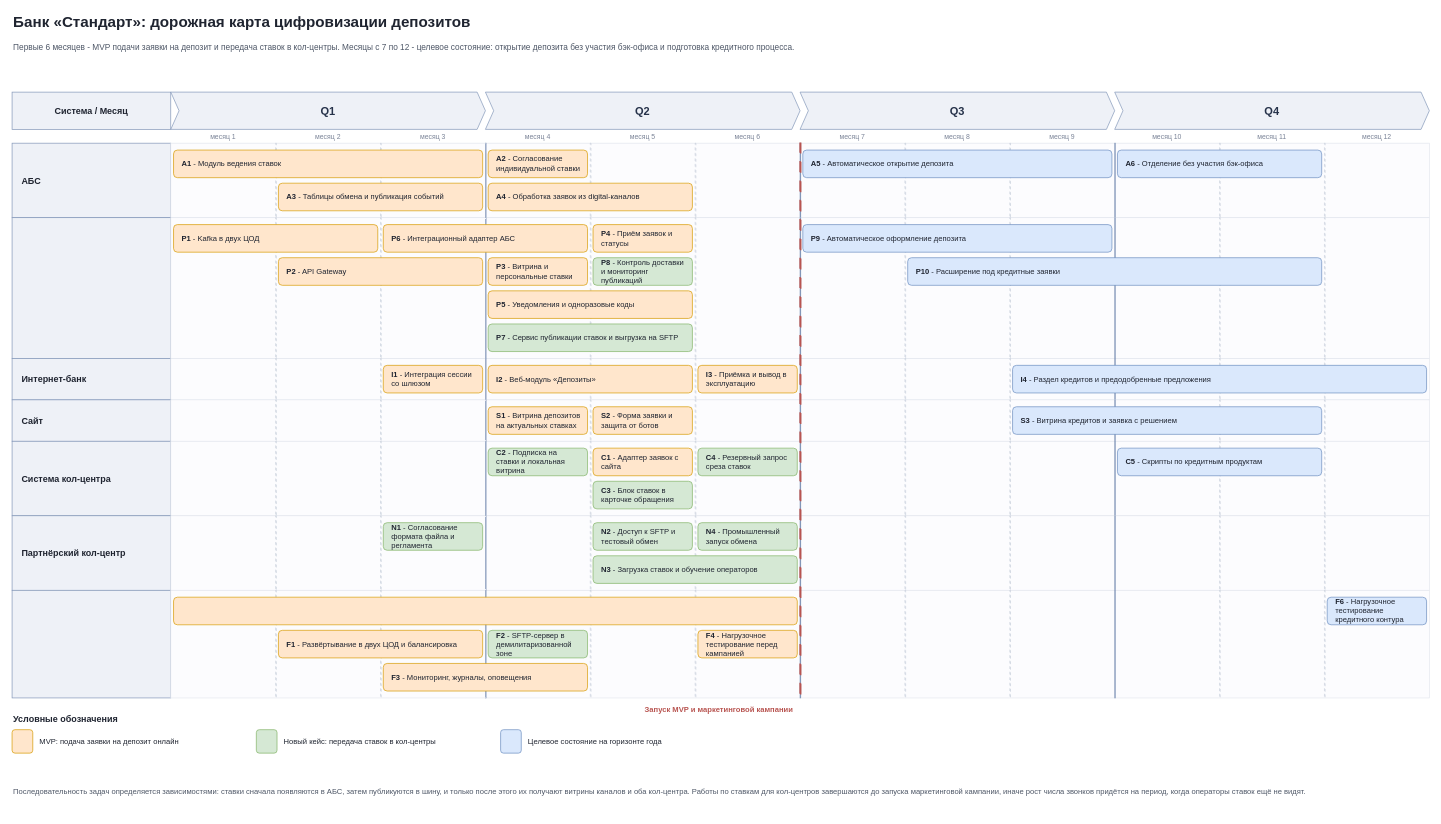
Some shapes in this 1441 by 824 pixel diagram are drawn without their labels. Here are the shapes that lost their labels. From the top down, the centre of each, then its label:
At [91,287]: "Платформа депозитов".
At [485,611]: "F5 - Документация архитектуры и интерфейсов".
At [91,644]: "Инфраструктура".
